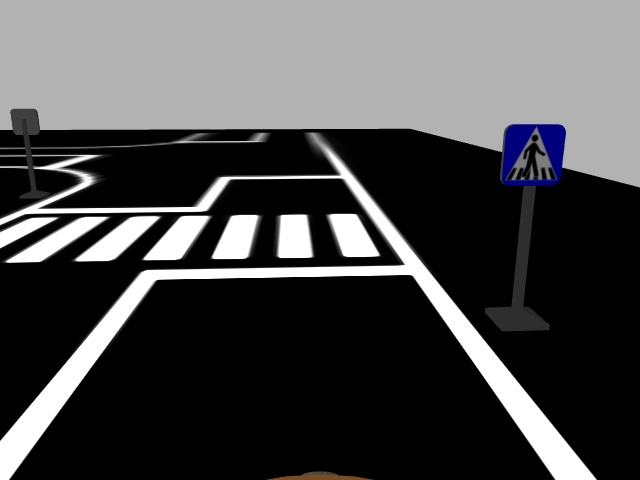crosswalk: (500, 121, 568, 189)
